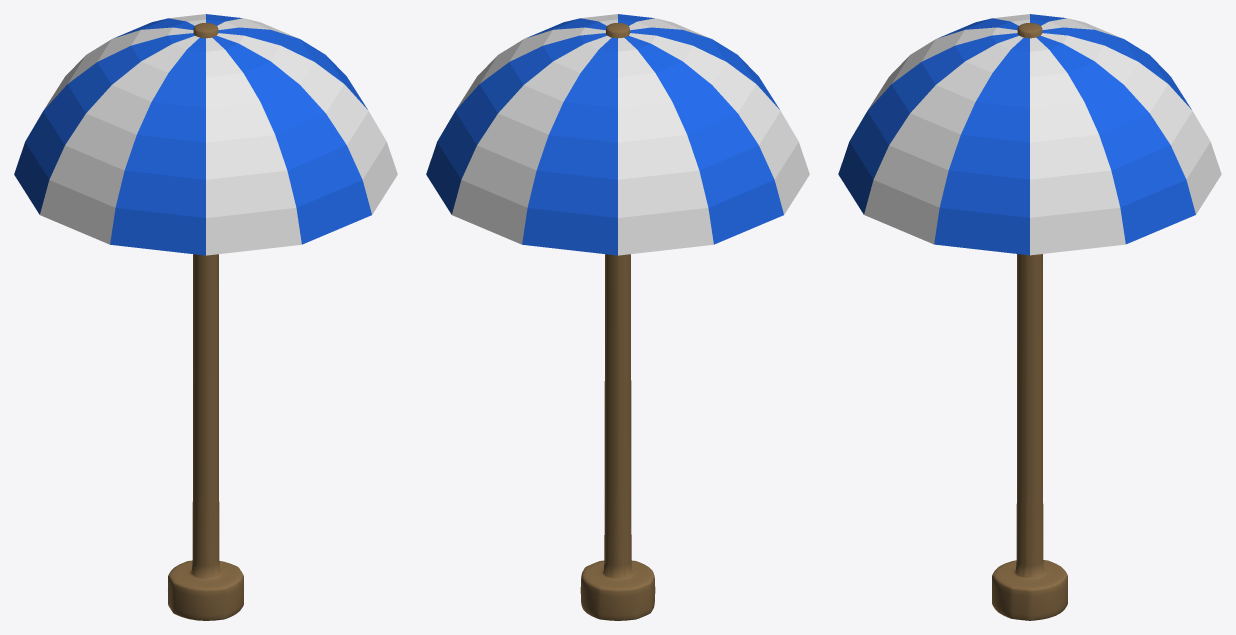
File: BeachUmbrellaBlue.fbx
3 renders of one model, left to right at view 1: azimuth 30°, elevation 25°; view 2: azimuth 150°, elevation 25°; view 3: azimuth 270°, elevation 25°, orthographic.
Parts seen in each view (by area): view 1: Sphere; view 2: Sphere; view 3: Sphere.
Part boxes in pixels (x1=…): Sphere: x1=14, y1=14, x2=397, y2=620; Sphere: x1=426, y1=14, x2=809, y2=620; Sphere: x1=838, y1=14, x2=1221, y2=620.
Size of the model in its own units: 340 by 567 by 340.
